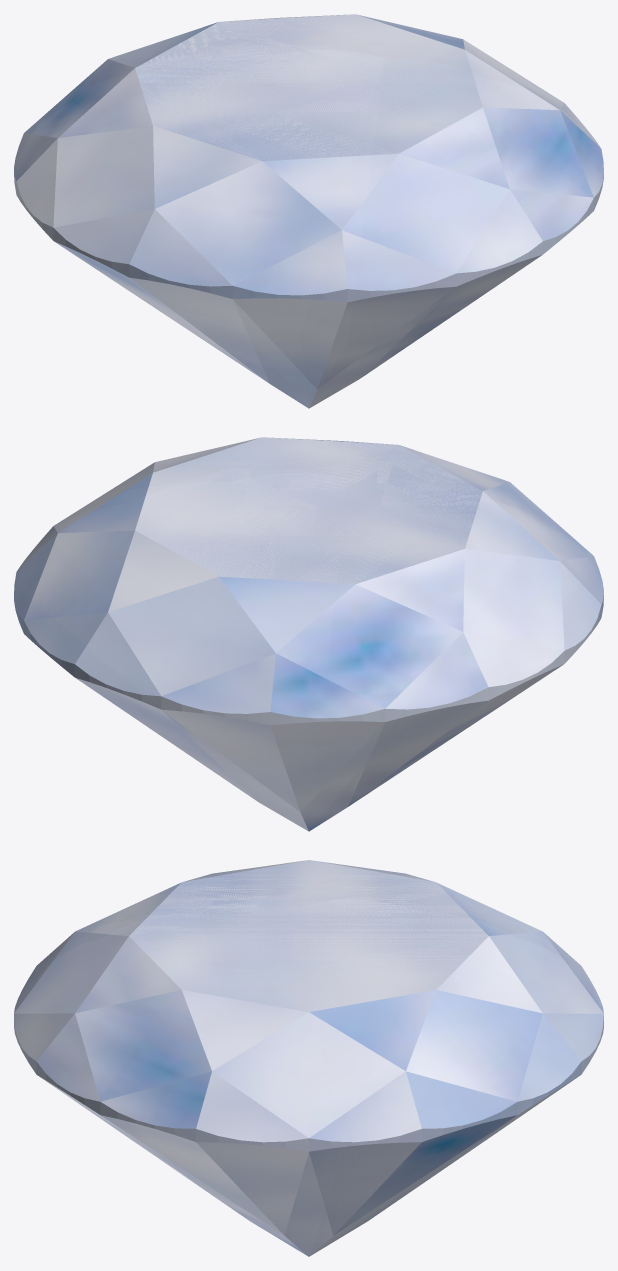
The model's file is silverweight_diamond.dae.
The picture shows the model from 3 angles, top to bottom: view 1: azimuth 30°, elevation 25°; view 2: azimuth 150°, elevation 25°; view 3: azimuth 270°, elevation 25°; orthographic projection.
Visible parts, largest first — view 1: Diamond; view 2: Diamond; view 3: Diamond.
Part boxes in pixels (x1=…): Diamond: x1=14, y1=14, x2=603, y2=408; Diamond: x1=14, y1=437, x2=603, y2=831; Diamond: x1=14, y1=860, x2=603, y2=1256.
Size of the model in its own units: 39.37 by 39.37 by 23.62.
1 material, 1 textured.
